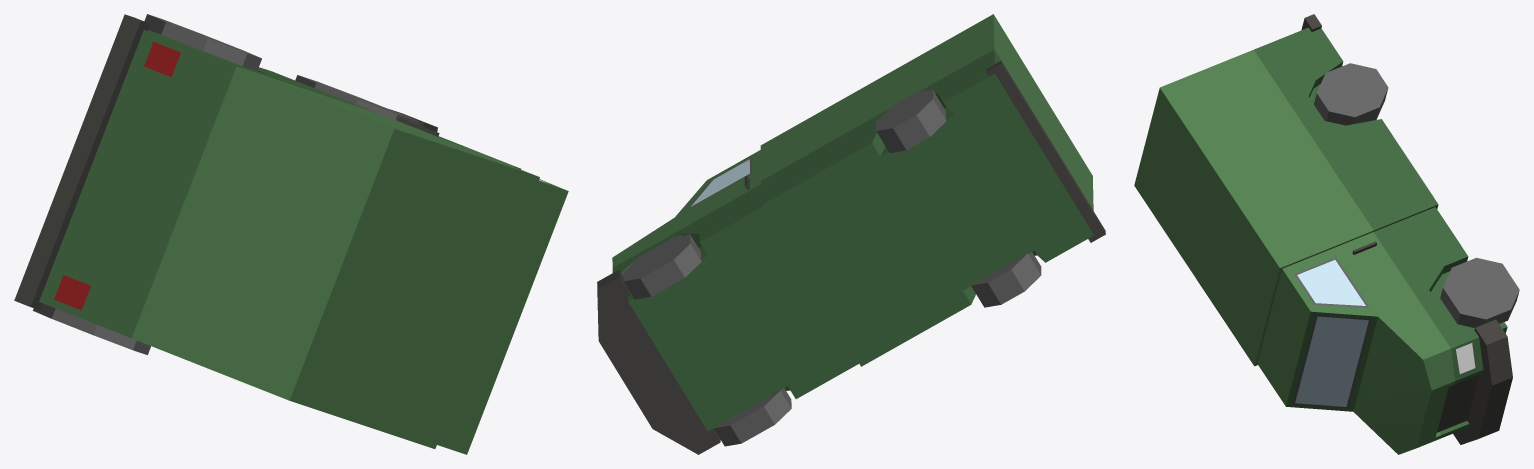
The model's file is Truck_2.gltf.
The picture shows the model from 3 angles, left to right: view 1: azimuth 30°, elevation 25°; view 2: azimuth 150°, elevation 25°; view 3: azimuth 270°, elevation 25°; orthographic projection. The views are drawn at different scales.
Visible parts, largest first — view 1: Truck_2; view 2: Truck_2; view 3: Truck_2.
Boxes of the visible parts, <box> form: Truck_2: <box>14,14,568,454</box>; Truck_2: <box>597,14,1105,454</box>; Truck_2: <box>1134,14,1519,454</box>.
Size of the model in its own units: 0.0757 by 0.0653 by 0.068.
Materials: 1 (1 with a texture image).
